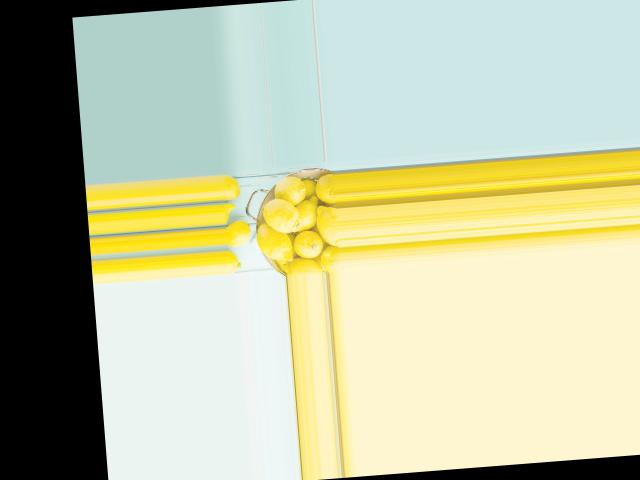lemon: (320, 239, 341, 272)
